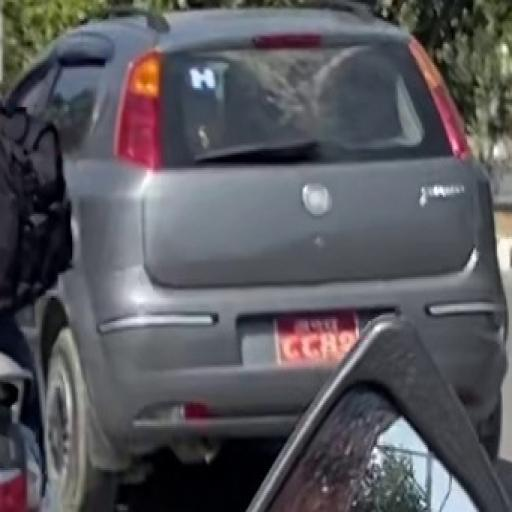license_plate: (270, 308, 361, 371)
